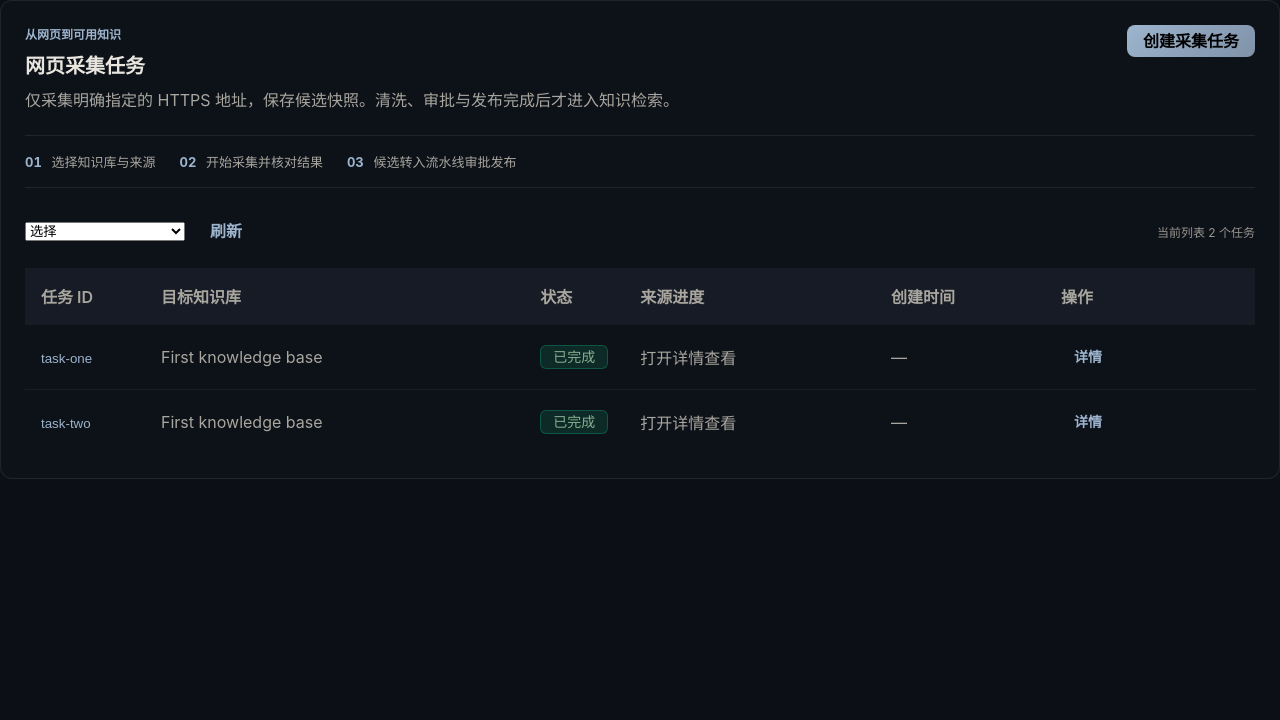
Scenario: collection source to lifecycle flow › shows persisted provenance, partial failure and reviewable navigation links
Click the button "task-one": (67, 358) [41,351,92,366]
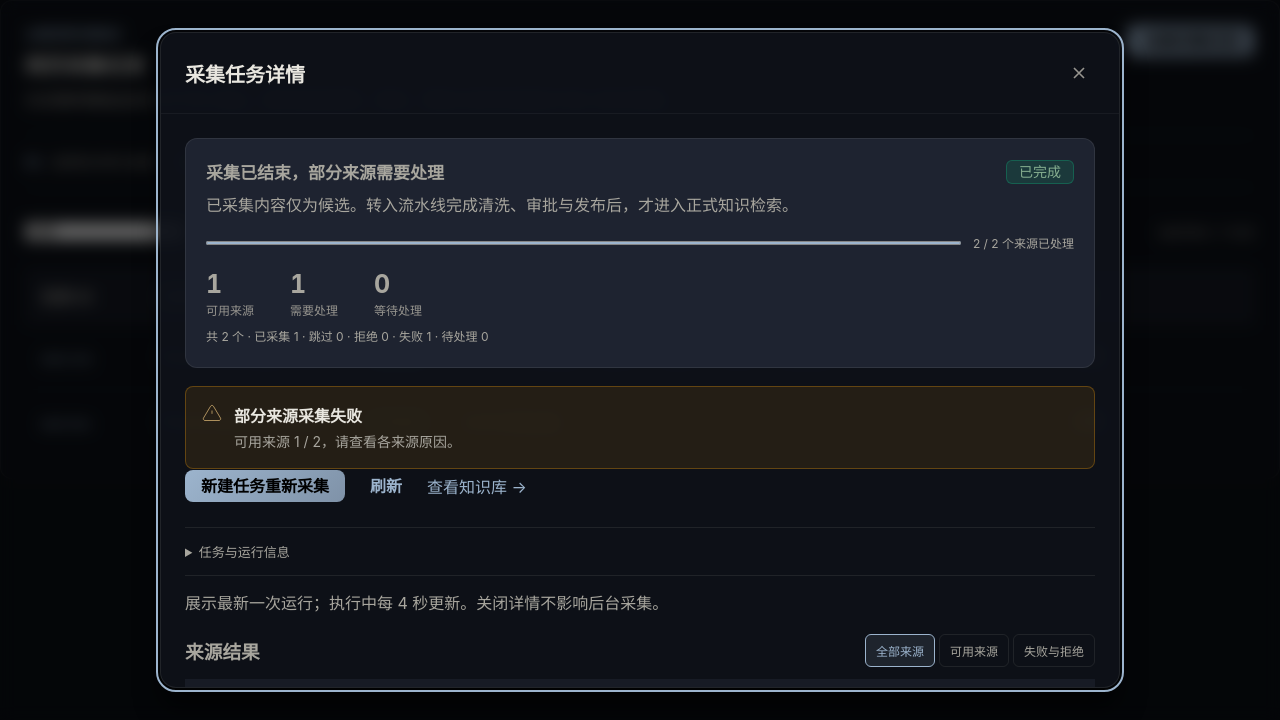
Now the text "部分来源采集失败" is shown, box [234,406,362,426]
Now the text "已采集 1 · 跳过 0 · 拒绝 0 · 失败 1" is shown, box [464,348,840,368]
